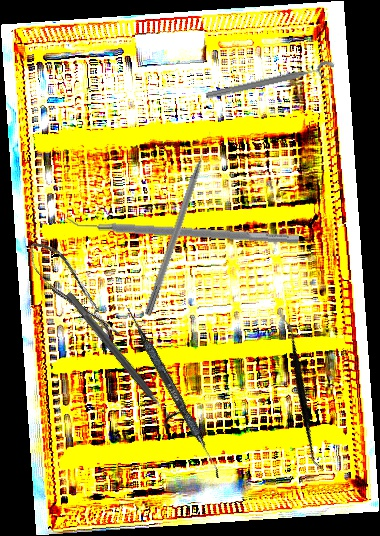Fixation Ring: (58, 284, 187, 432), (204, 59, 339, 110)
Micro Scissor: (21, 233, 126, 350)
Pusher: (143, 130, 217, 318)
Spatula Surgical: (226, 316, 380, 472), (121, 306, 227, 479), (65, 211, 300, 245)
